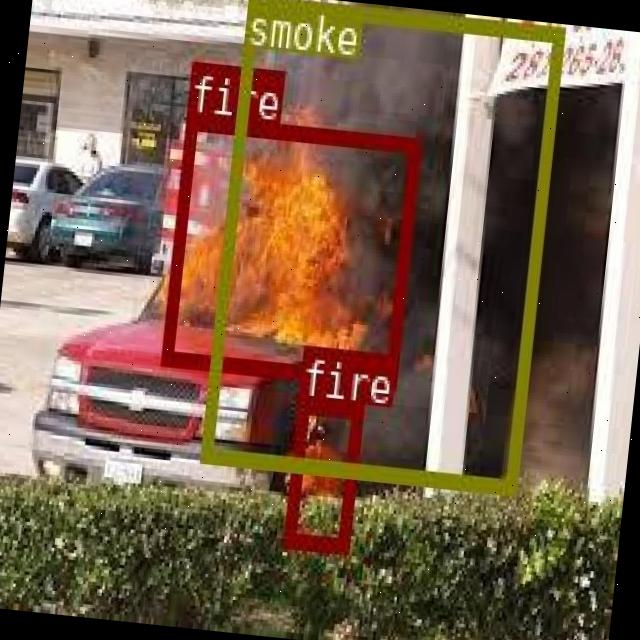fire: (159, 110, 420, 386), (280, 397, 362, 551)
smoke: (199, 0, 563, 491)
